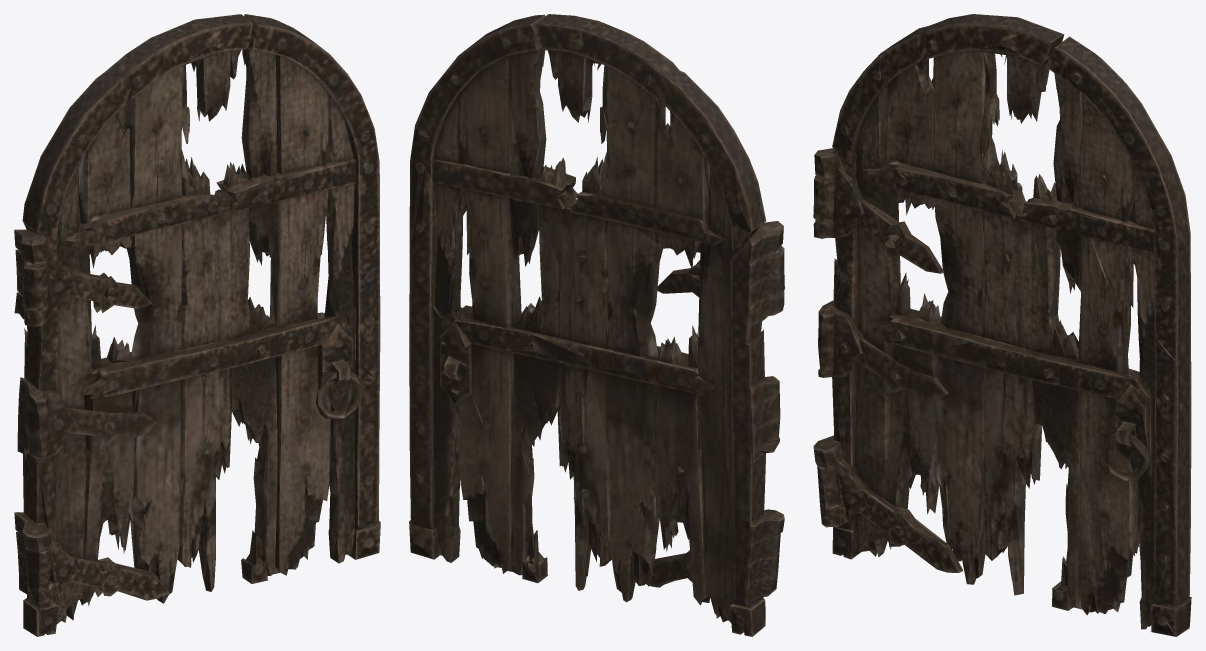
File: wooden_gate_door_destroyed.glb
3 renders of one model, left to right at view 1: azimuth 30°, elevation 25°; view 2: azimuth 150°, elevation 25°; view 3: azimuth 330°, elevation 25°, orthographic.
Parts seen in each view (by area): view 1: output_unwrapped; view 2: output_unwrapped; view 3: output_unwrapped.
Part boxes in pixels (x1=…): output_unwrapped: x1=14, y1=14, x2=380, y2=636; output_unwrapped: x1=409, y1=14, x2=784, y2=636; output_unwrapped: x1=813, y1=14, x2=1191, y2=636.
Size of the model in its own units: 1.26 by 1.9 by 0.1757.
Materials: 1 (1 with a texture image).
